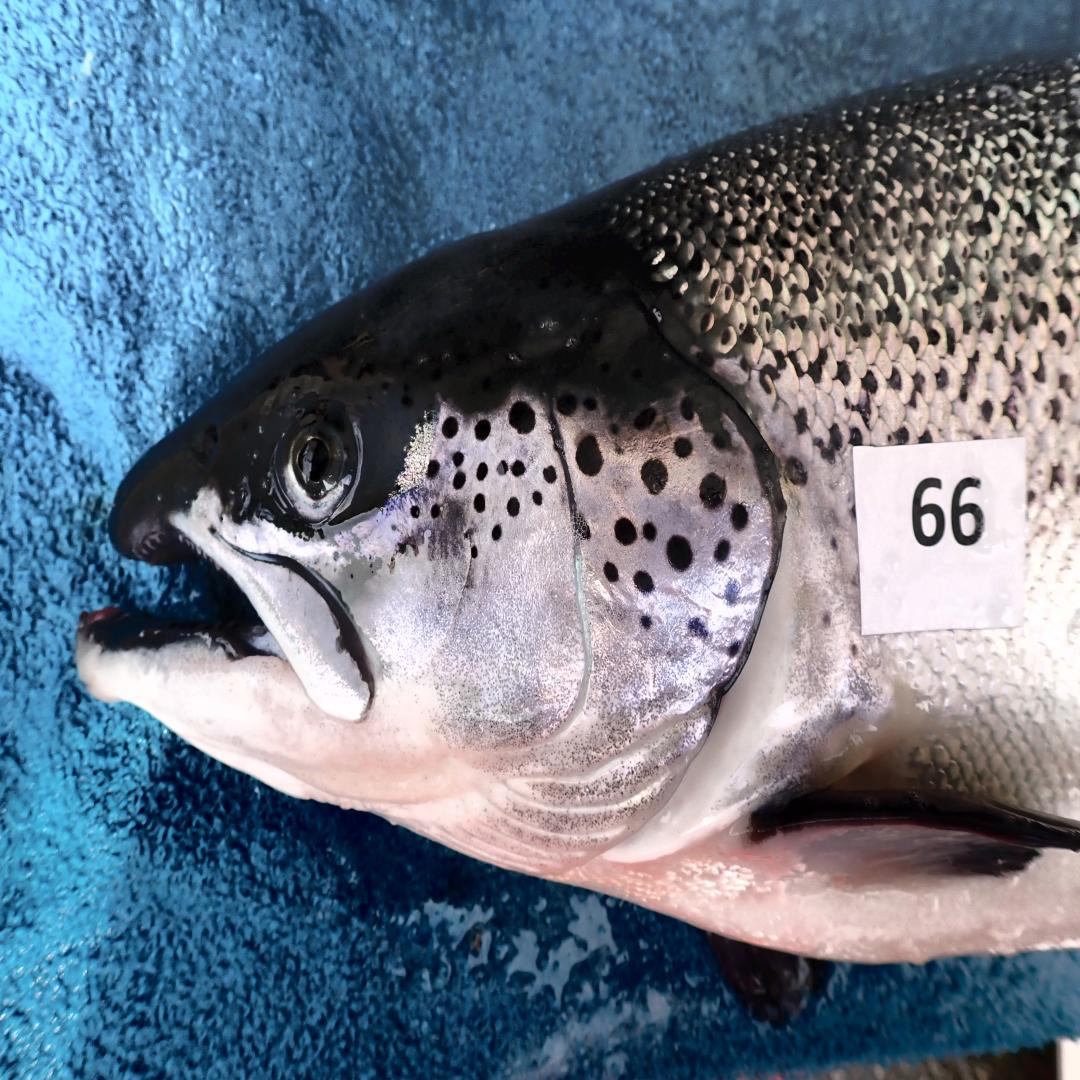spot: (640, 458, 669, 495), (698, 472, 727, 509), (576, 436, 603, 475), (666, 533, 692, 571), (508, 402, 536, 433), (614, 518, 637, 546), (730, 503, 749, 531), (556, 393, 578, 416), (634, 408, 656, 431), (633, 570, 654, 593), (688, 618, 709, 639), (673, 436, 692, 458), (442, 416, 458, 440), (680, 394, 694, 421), (475, 419, 491, 442), (724, 582, 739, 606), (715, 539, 730, 562), (642, 520, 656, 542), (603, 562, 618, 582), (542, 464, 557, 484), (577, 516, 590, 539), (506, 498, 520, 518), (452, 470, 466, 490), (511, 459, 526, 477), (426, 460, 441, 478), (473, 493, 486, 513), (727, 640, 740, 658), (476, 462, 488, 481), (583, 396, 597, 411), (496, 460, 509, 476), (451, 452, 464, 468), (398, 544, 418, 554), (713, 436, 726, 451), (430, 503, 440, 520), (641, 616, 652, 631), (492, 525, 502, 541), (532, 491, 542, 505), (410, 506, 420, 519), (609, 423, 618, 434), (471, 545, 478, 559), (616, 447, 625, 455), (463, 530, 469, 540), (392, 524, 397, 531)
